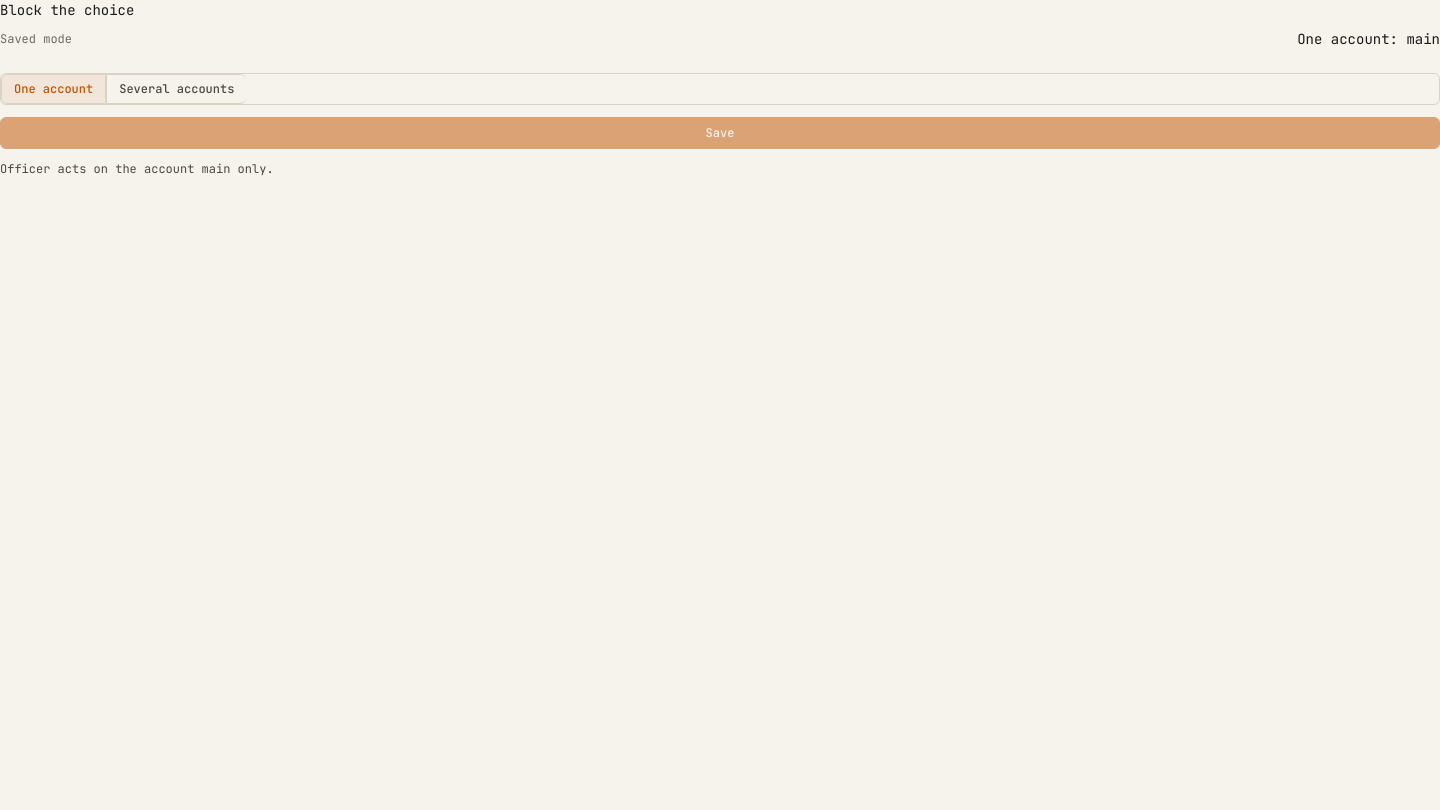
Test: AccountModeChoice › switches to several accounts and restarts when the server asks for it
The image size is (1440, 810).
Expected: the text "Stale data" is not shown
What coordinates should you click on to do the following:
click the button "Several accounts"
I would click on:
 (176, 89)
Its box is [106,74,246,104].
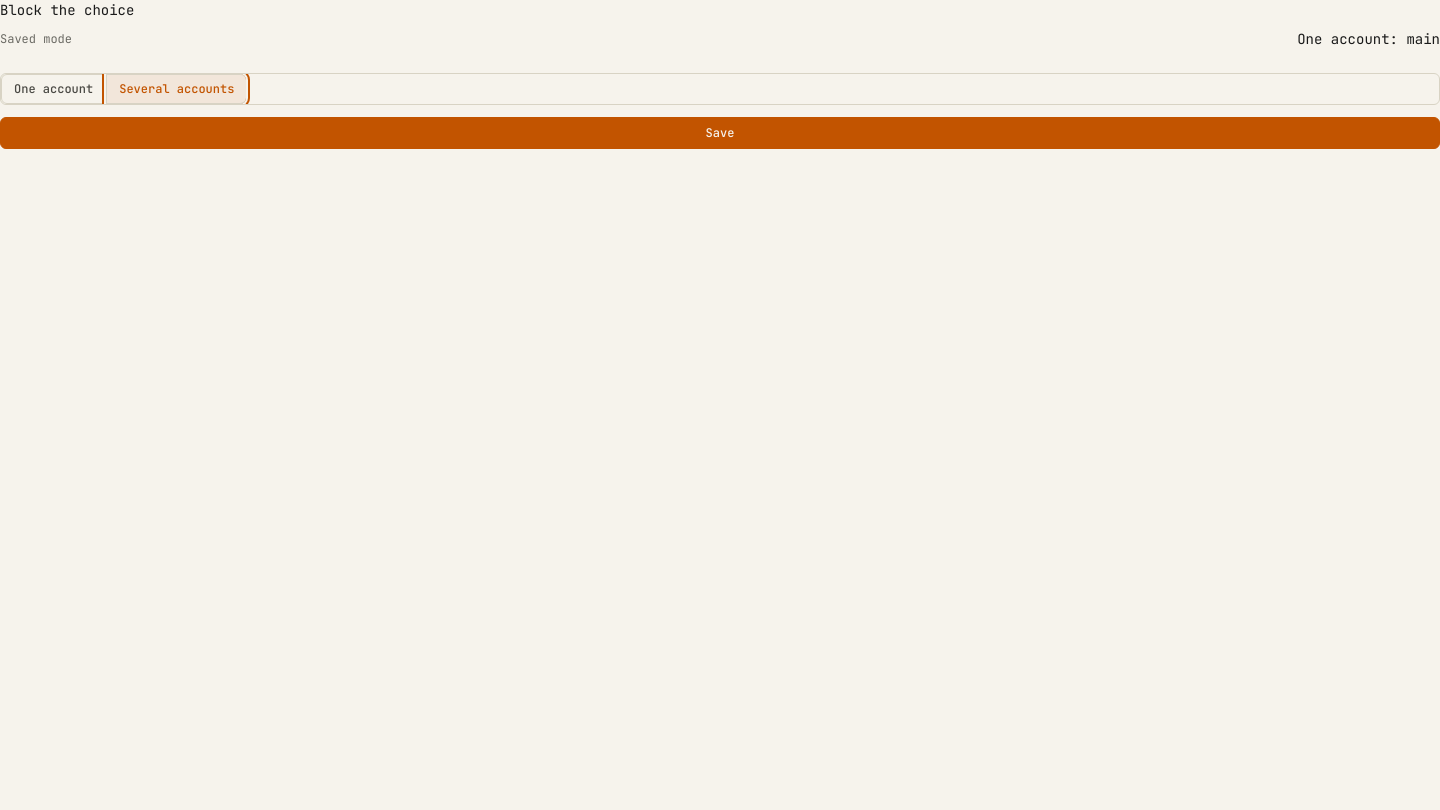
What coordinates should you click on to do the following:
click the button "Save"
I would click on:
 (720, 133)
Its box is [0,117,1439,149].
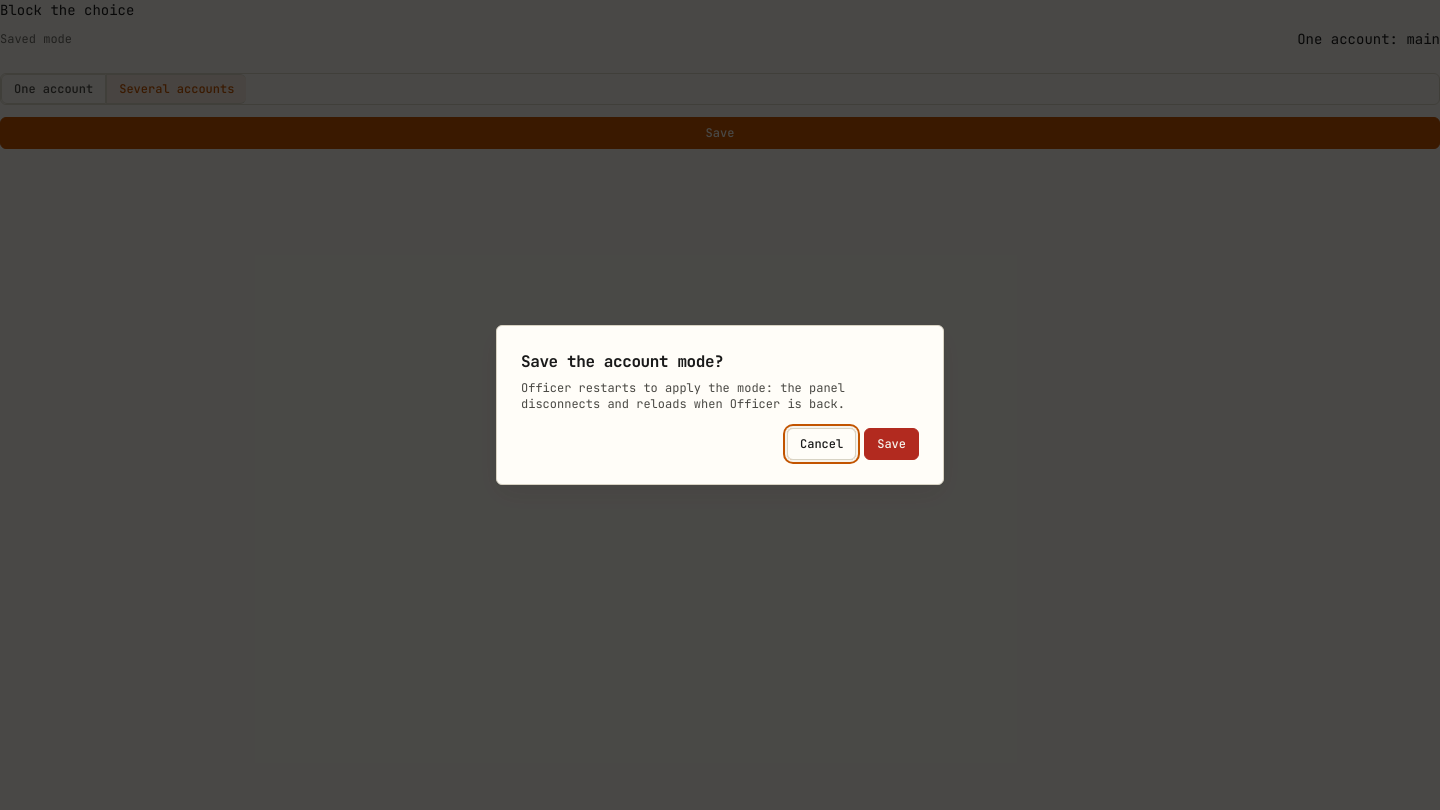
Expected: the text "Officer restarts to apply the mode" is shown, [521,380,845,412]
What coordinates should you click on to do the following:
click the button "Save"
I would click on:
 (892, 444)
Its box is [864,428,919,460].
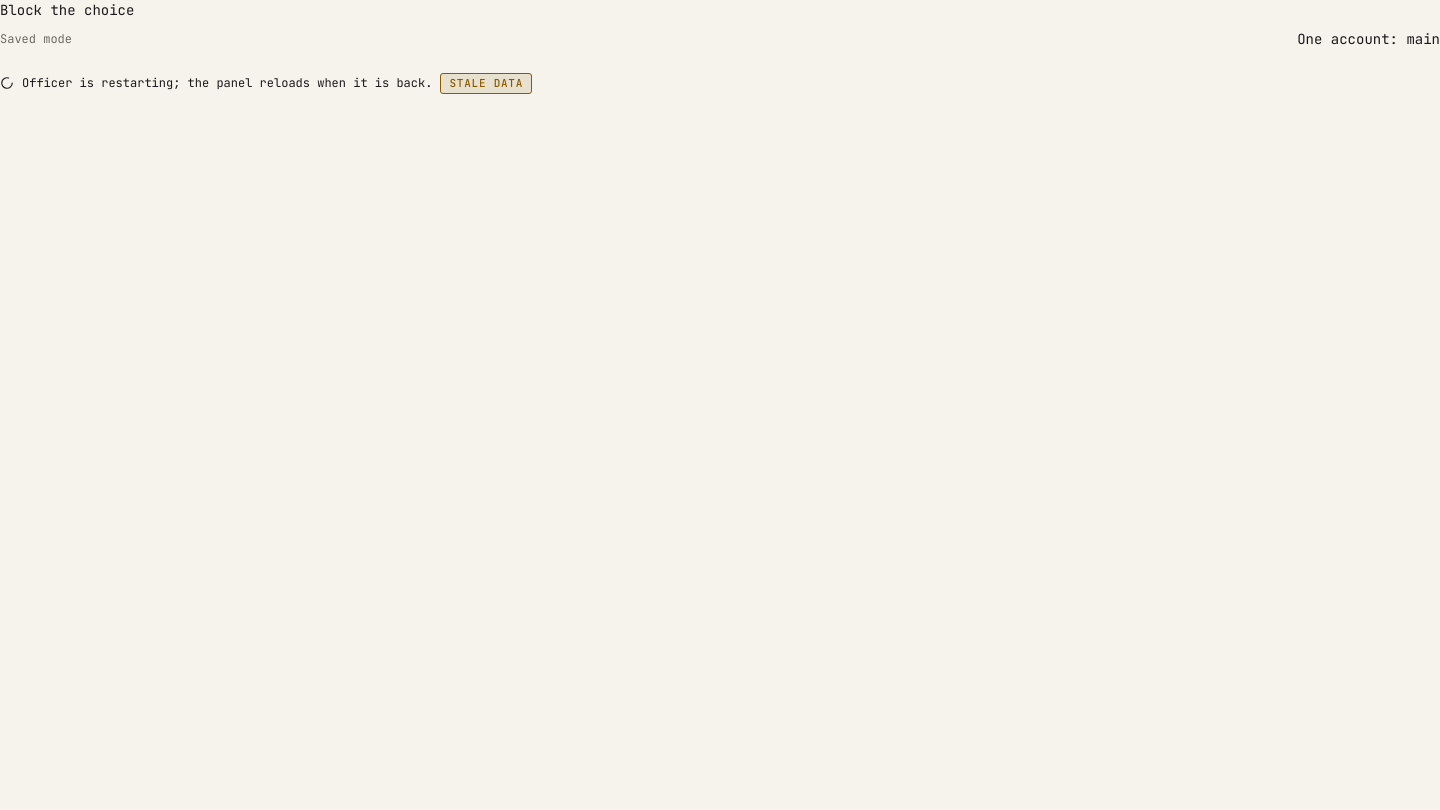
Expected: the text "Officer is restarting; the panel reloads when it is back." is shown, [22,75,432,91]
Expected: the message named "Stale data: Officer is unreachable" is shown, [440,73,532,94]
